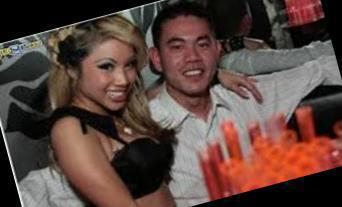Drunk: (161, 19, 216, 93), (85, 39, 136, 111)
